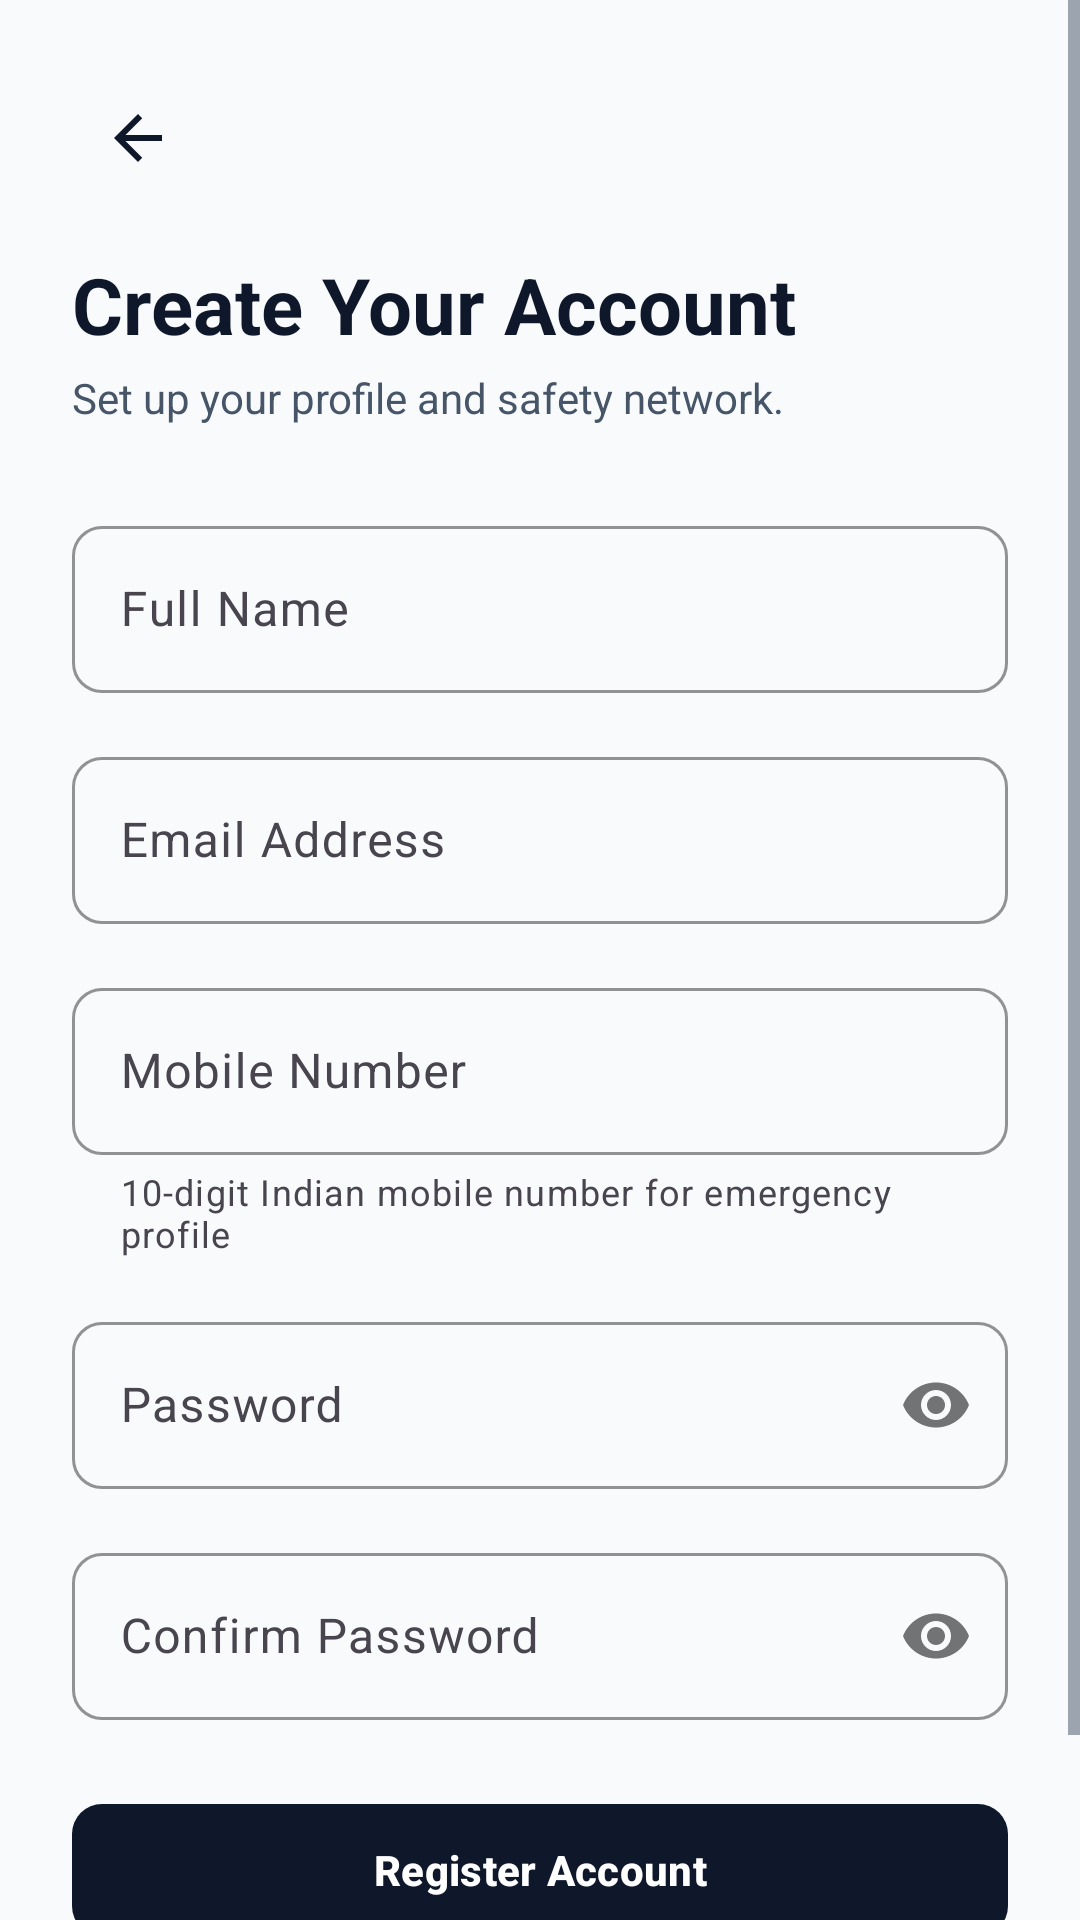

Screen size 1080 × 1920. Icon name, then its box in pixels as (x1, y1, x2, y2):
Back: (114, 114, 162, 162)
